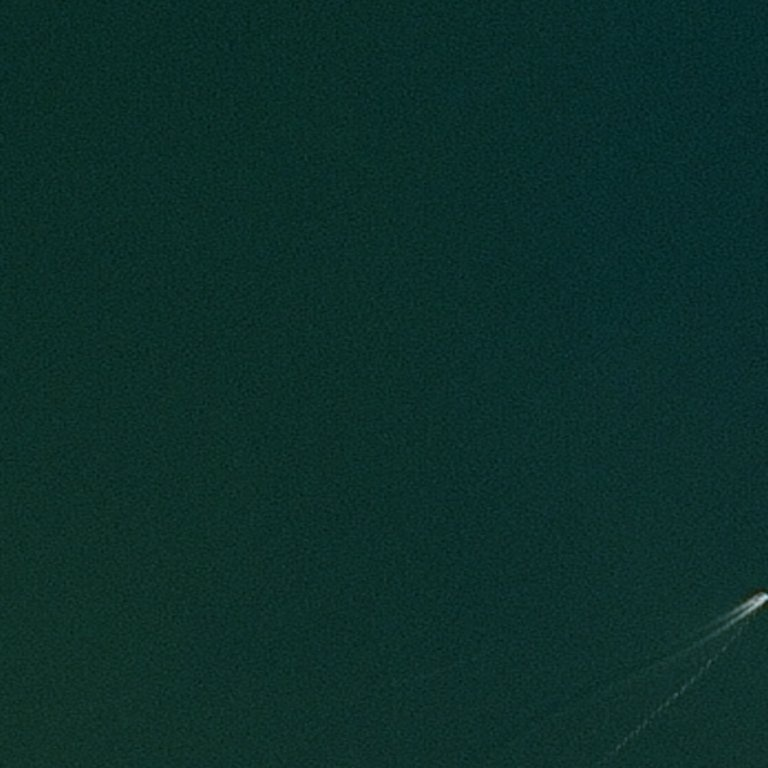ship: (756, 587, 767, 604)
